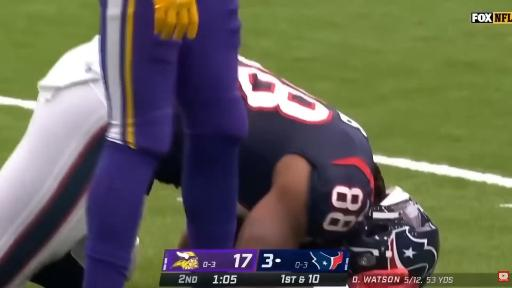Helmet: (347, 187, 439, 279)
Jersey: (239, 57, 376, 243)
Player: (84, 0, 247, 287), (237, 58, 385, 248), (0, 38, 106, 287), (299, 187, 439, 287)
